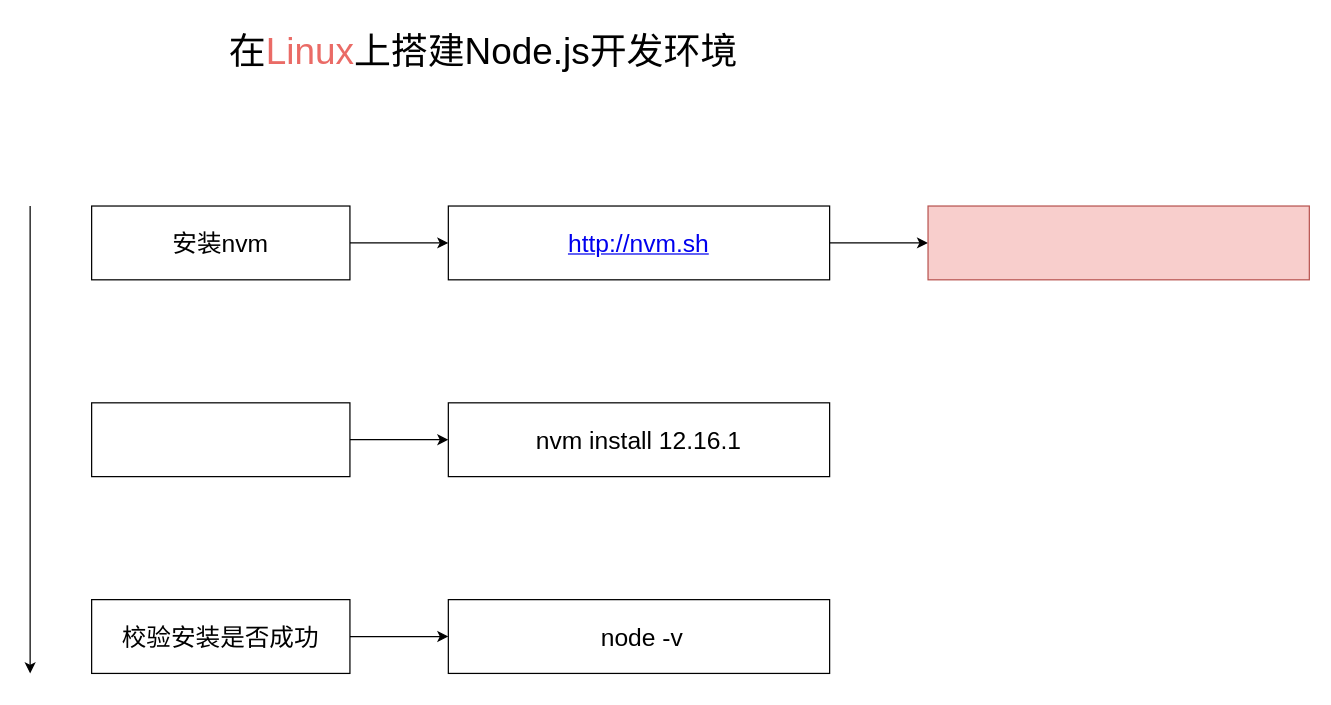
The diagram is 1331 pixels wide and 705 high, and some of its shapes have lost their labels. Here are the shapes that lost their labels. From the top down, the centre of each, then its label:
At point (1118, 242): "确保Git已安装".
At point (220, 439): "安装Node.js".
